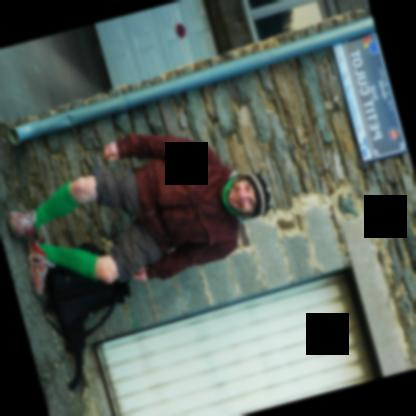backpack: (43, 263, 129, 394)
